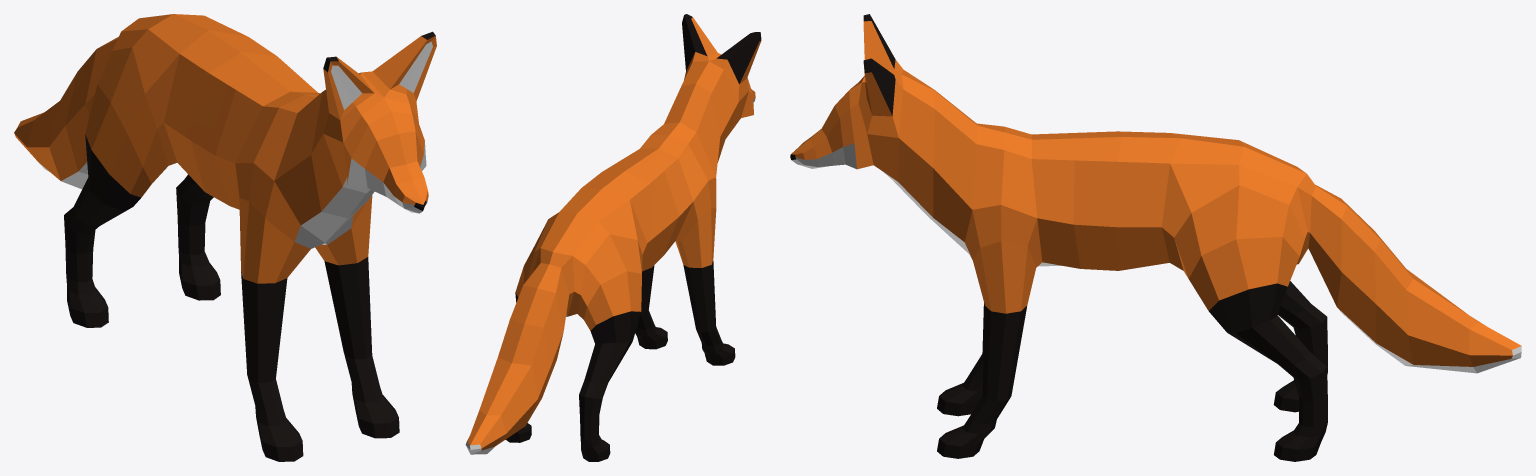
File: Fox-Applied.glb
3 renders of one model, left to right at view 1: azimuth 30°, elevation 25°; view 2: azimuth 150°, elevation 25°; view 3: azimuth 270°, elevation 25°, orthographic. The views are drawn at different scales.
Parts seen in each view (by area): view 1: 01foxFinal; view 2: 01foxFinal; view 3: 01foxFinal.
Boxes of the visible parts, x1,y1,x2,y2 form: 01foxFinal: (14, 14, 436, 461); 01foxFinal: (465, 14, 761, 461); 01foxFinal: (790, 14, 1521, 461).
Bounding box in the file's own units: 0.4363 × 1.13 × 1.91.
1 material, 1 textured.
